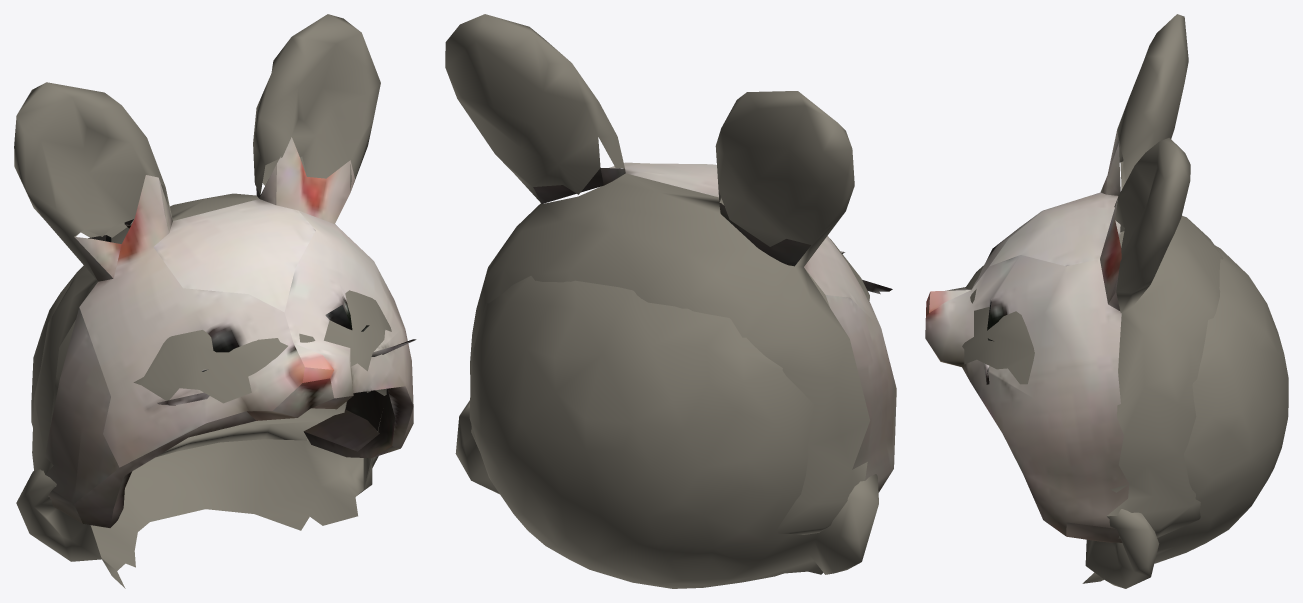
The model's file is rabbit.glb.
3 renders of one model, left to right at view 1: azimuth 30°, elevation 25°; view 2: azimuth 150°, elevation 25°; view 3: azimuth 270°, elevation 25°, orthographic. The views are drawn at different scales.
Visible parts, largest first — view 1: geometry_0, HoodAnatomicalLining; view 2: geometry_0, HoodAnatomicalLining; view 3: geometry_0, HoodAnatomicalLining.
Part boxes in pixels (x1,y1,x2,y2): geometry_0: [14, 14, 416, 527]; HoodAnatomicalLining: [16, 274, 391, 588]; geometry_0: [445, 14, 896, 534]; HoodAnatomicalLining: [455, 199, 878, 588]; geometry_0: [925, 14, 1223, 542]; HoodAnatomicalLining: [962, 235, 1288, 588].
Bounding box in the file's own units: 0.5083 × 0.6305 × 0.4506.
2 materials, 1 textured.
